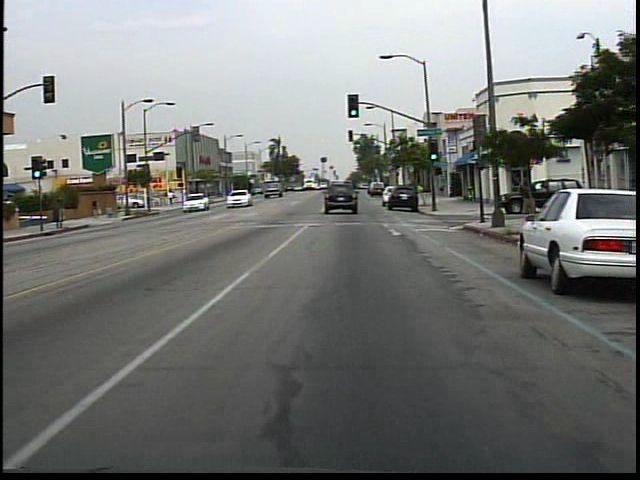person: (516, 171, 540, 232), (91, 192, 110, 221), (168, 187, 177, 208)
